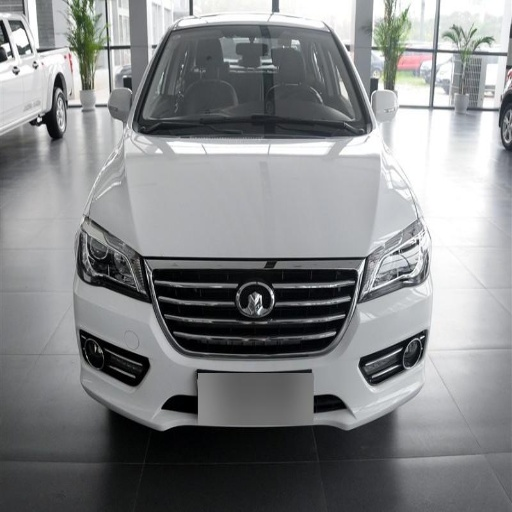front_bumper: (73, 256, 429, 430), (216, 440, 323, 466)
front_right_light: (78, 213, 145, 297)
hood: (92, 127, 417, 257)
